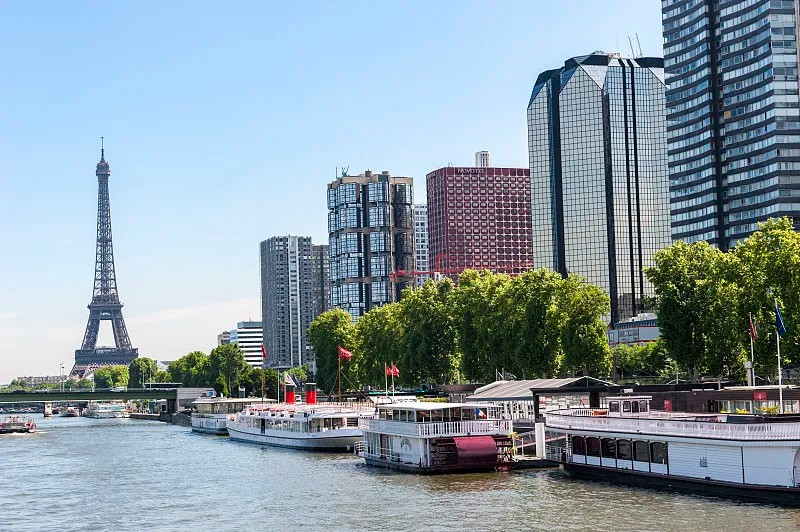Eiffel: (69, 137, 138, 377)
